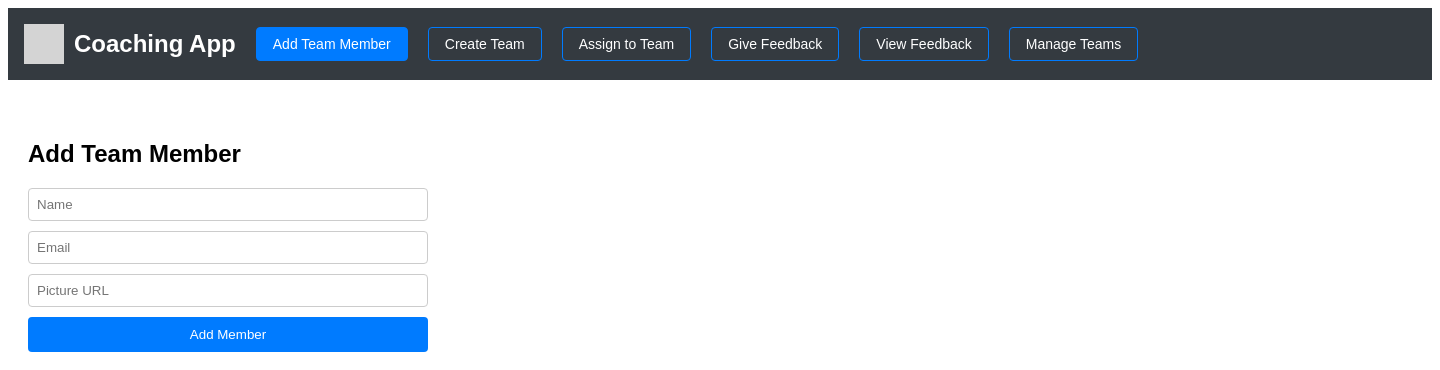
Test case: App › navigates to Assign to Team page
Click the button "Assign to Team".
click(626, 44)  # box [562,27,691,61]
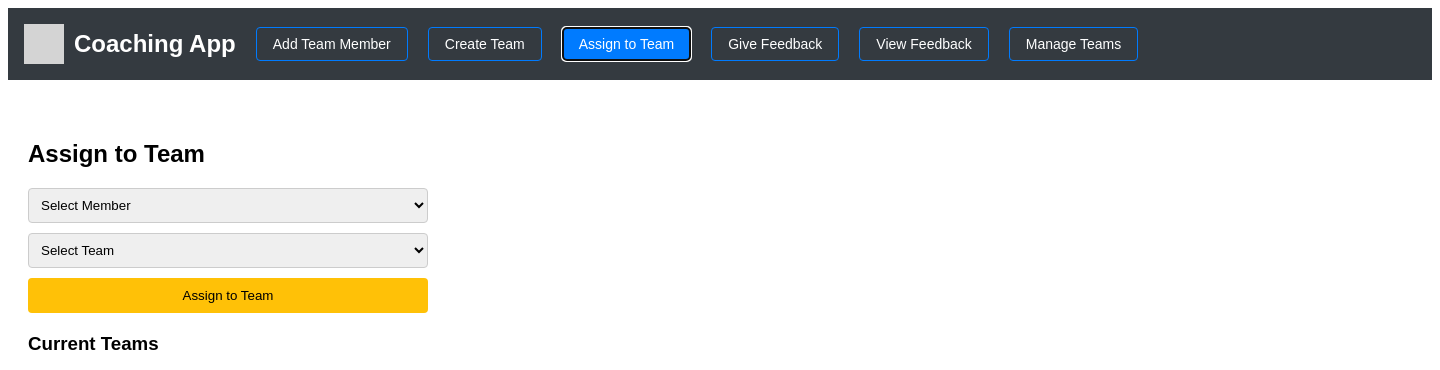
expect the heading "Assign to Team" is shown: met, box [28,140,205,167]
expect the heading "Current Teams" is shown: met, box [28,333,159,354]
